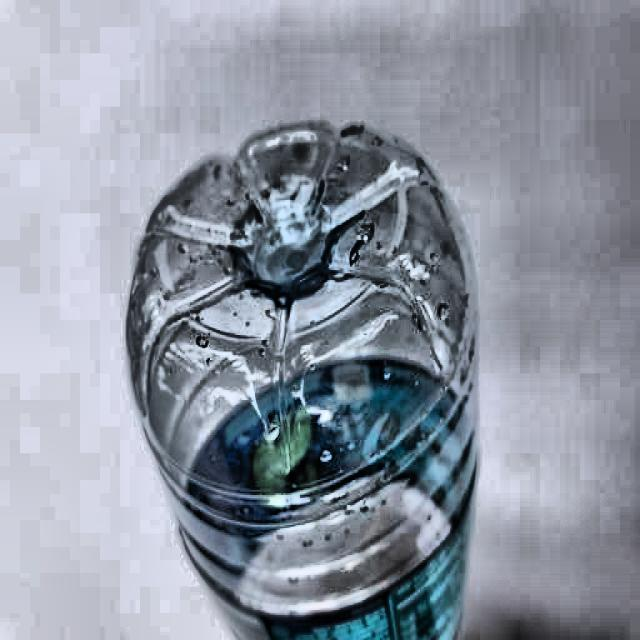plastic: (126, 118, 484, 640)
